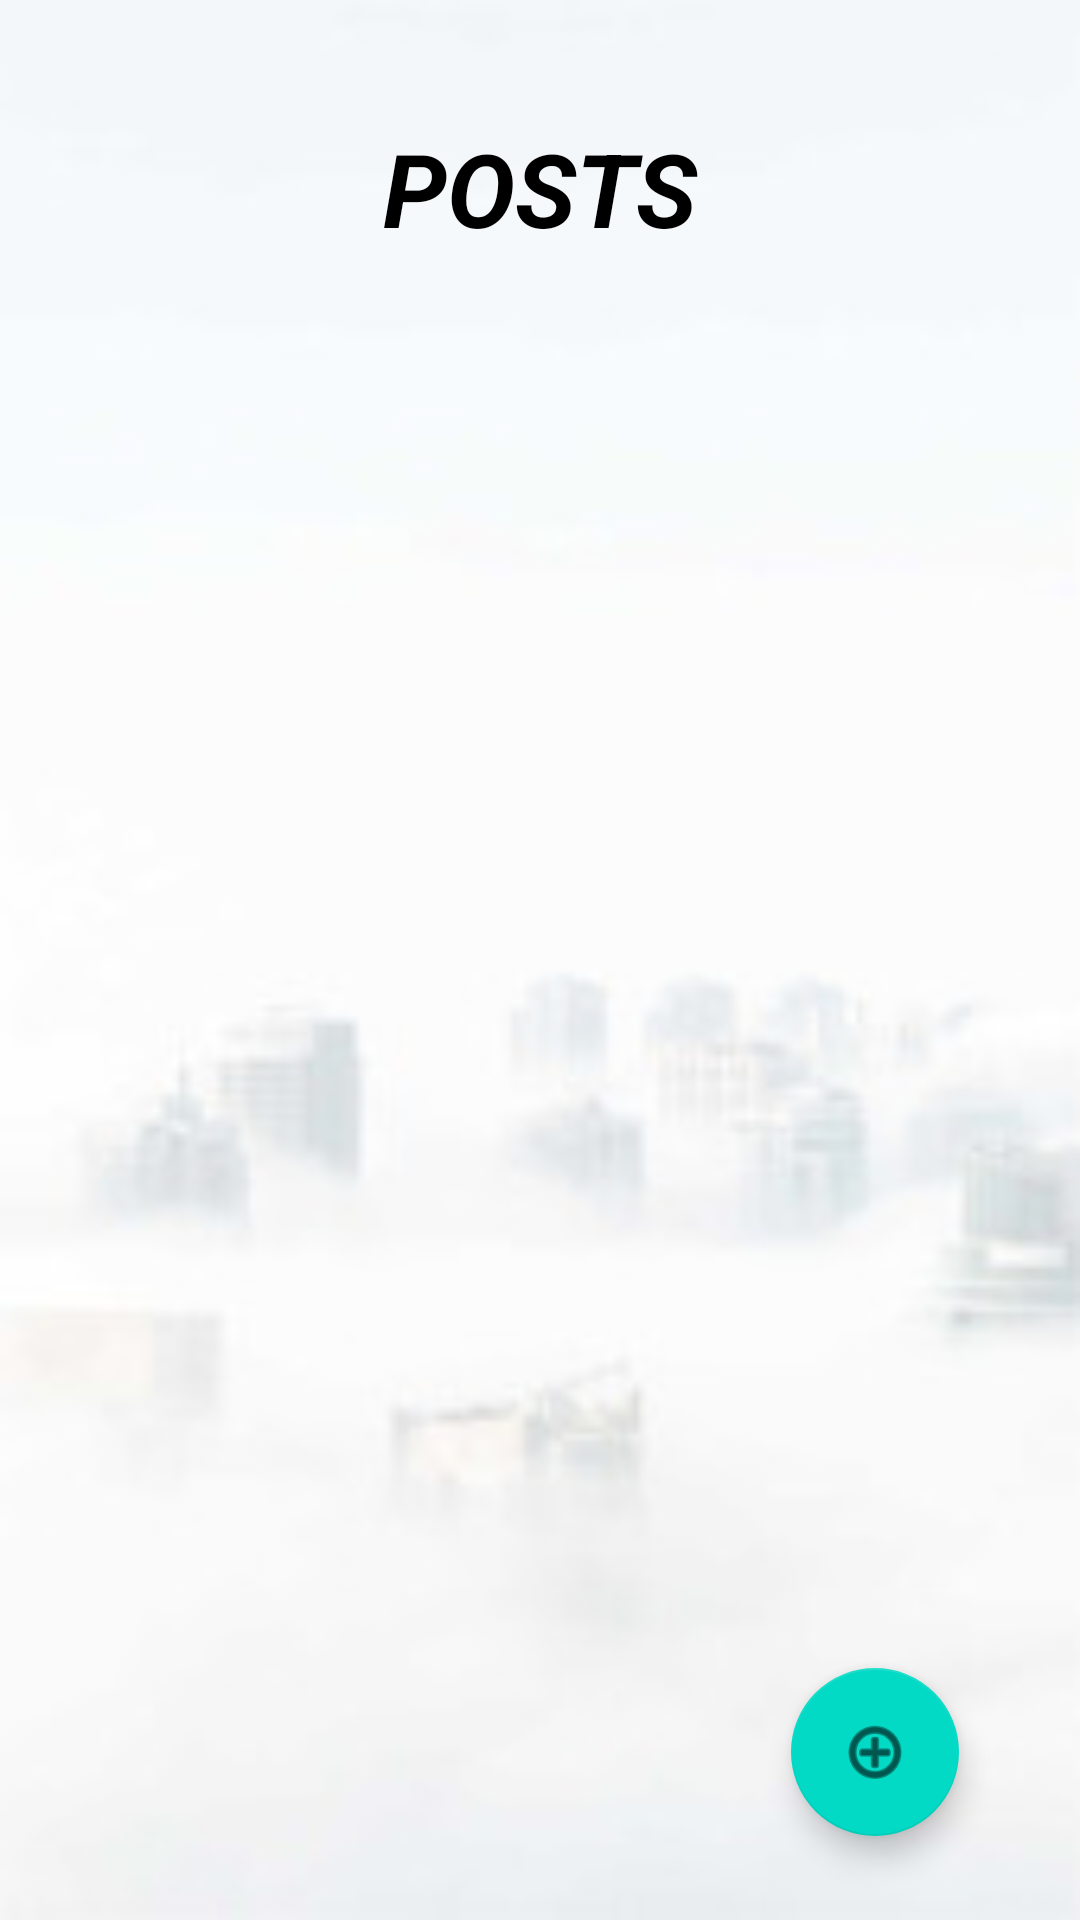

Icon bounding boxes for this 1080x1920 phone screenshot, format (x1, y1, x2, y2):
add: (791, 1668, 959, 1836)
